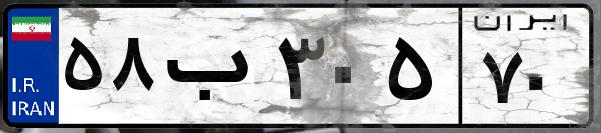0: (330, 28, 385, 110), (525, 38, 570, 115)
3: (270, 28, 330, 110)
5: (385, 28, 445, 110), (57, 26, 110, 100)
7: (475, 38, 525, 113)
8: (110, 28, 158, 98)
ب: (158, 20, 270, 120)
